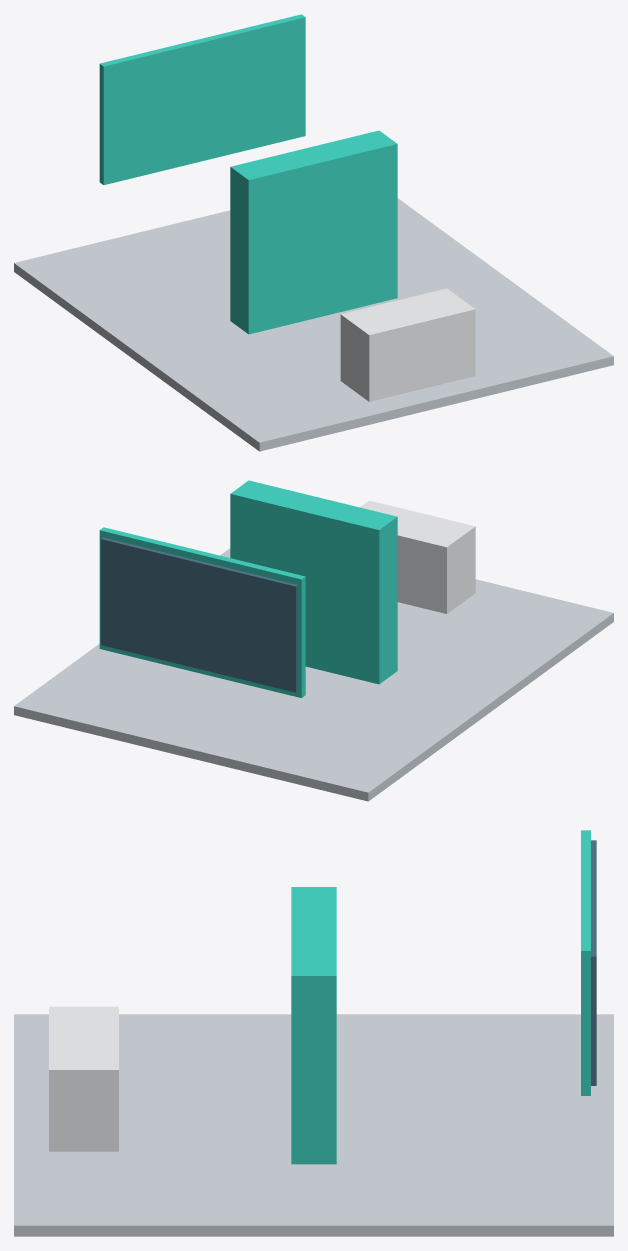
The picture shows the model from 3 angles, top to bottom: view 1: azimuth 30°, elevation 25°; view 2: azimuth 150°, elevation 25°; view 3: azimuth 270°, elevation 25°; orthographic projection. The views are drawn at different scales.
Parts seen in each view (by area): view 1: Exhibition Booth Concept; view 2: Exhibition Booth Concept; view 3: Exhibition Booth Concept.
Part boxes in pixels (x1,y1,x2,y2): Exhibition Booth Concept: (14,14,613,451); Exhibition Booth Concept: (14,480,613,801); Exhibition Booth Concept: (14,830,613,1236).
Bounding box in the file's own units: 5 × 2.65 × 6.
